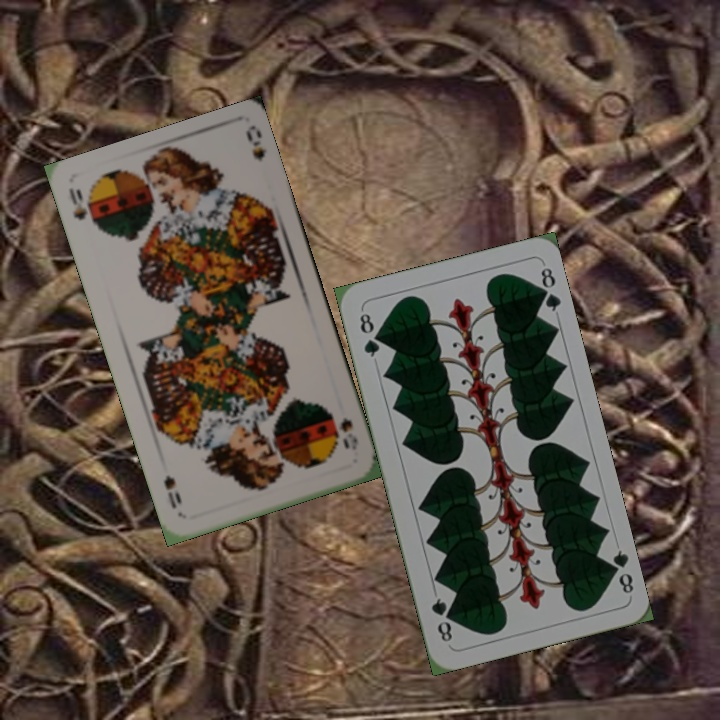G8: (603, 546, 637, 596), (355, 309, 382, 360)
SO: (335, 413, 361, 453), (64, 184, 90, 223)
